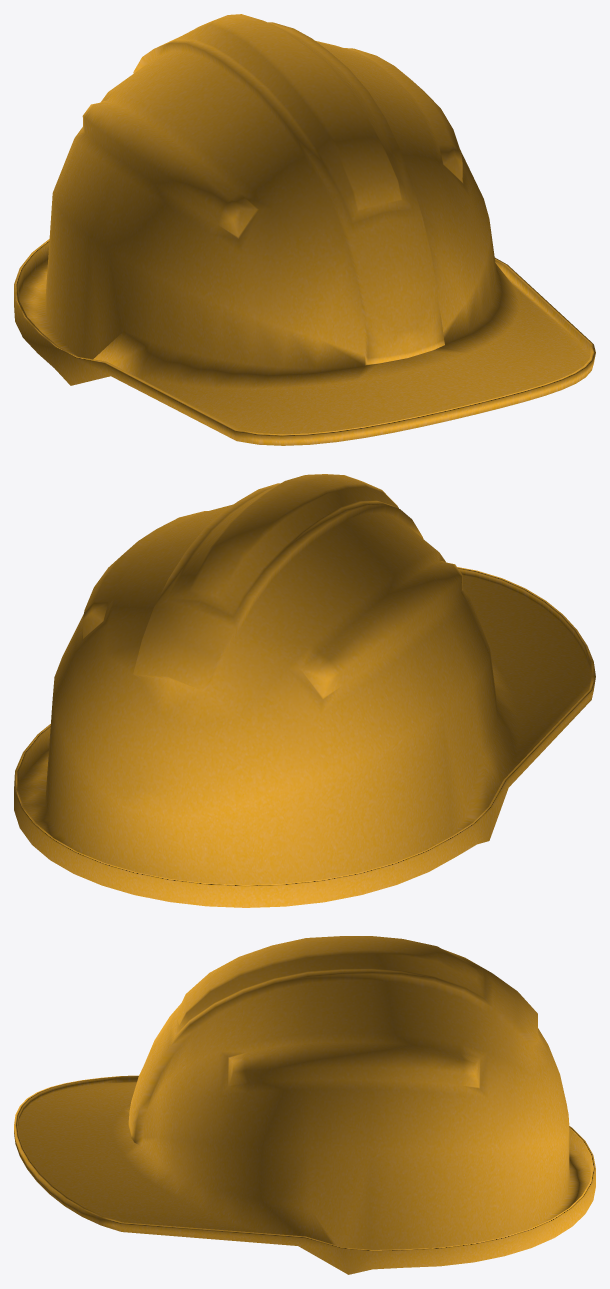
File: safety_helmet.obj
3 views of the same model, one above another, from view 1: azimuth 30°, elevation 25°; view 2: azimuth 150°, elevation 25°; view 3: azimuth 270°, elevation 25° (orthographic). The views are drawn at different scales.
Visible parts, largest first — view 1: obj1; view 2: obj1; view 3: obj1.
Boxes of the visible parts, x1,y1,x2,y2 form: obj1: (14, 14, 595, 445); obj1: (14, 474, 595, 907); obj1: (14, 936, 595, 1274).
Bounding box in the file's own units: 2.23 × 1.48 × 3.15.
